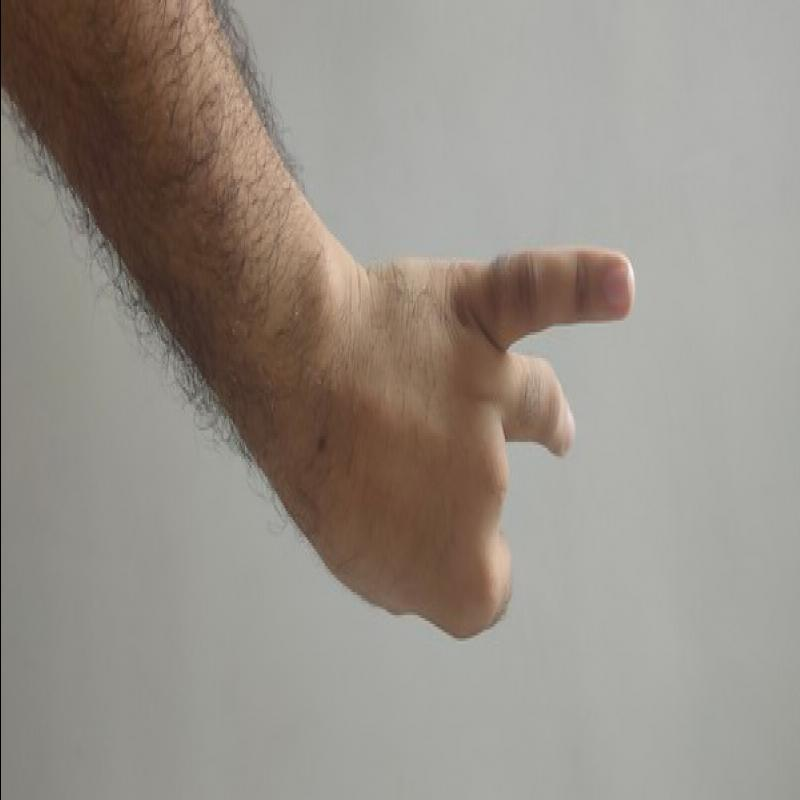Katakam: (329, 212, 656, 641)
